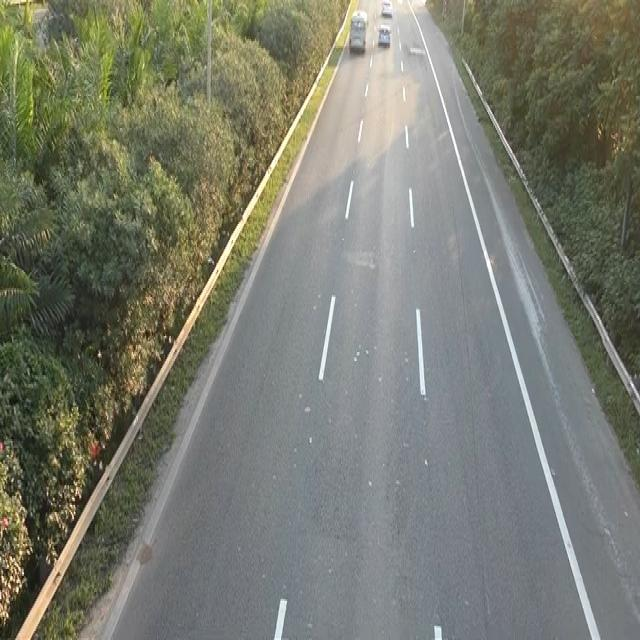bus: (376, 23, 391, 48), (380, 0, 393, 16)
jeep: (347, 9, 368, 53)
